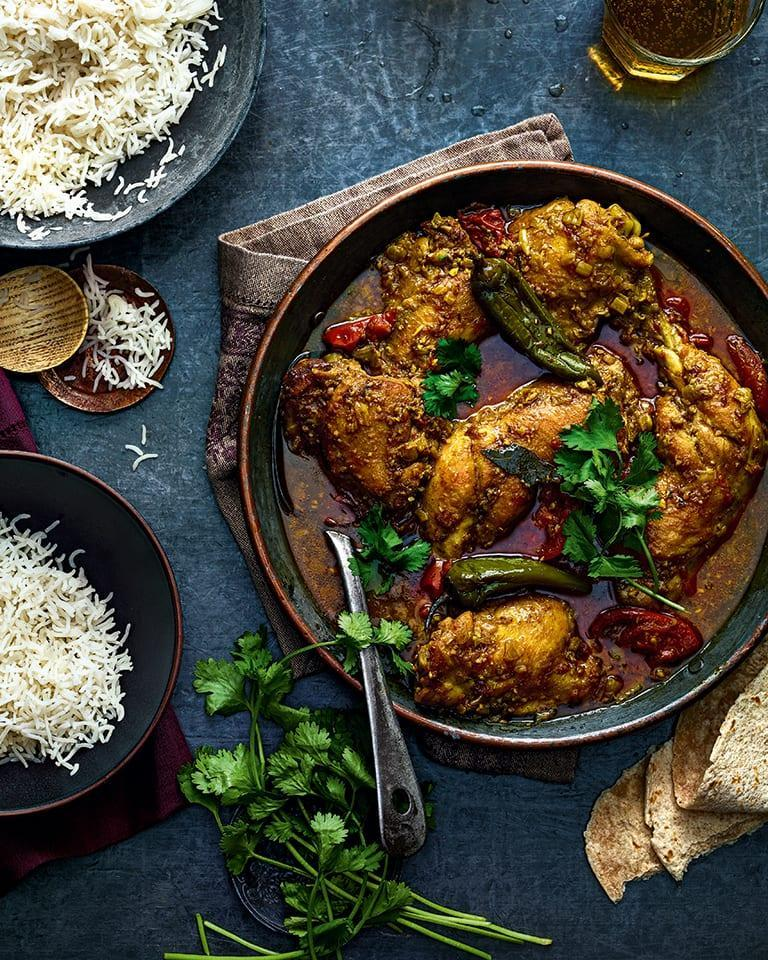chicken: (280, 169, 768, 742)
rice: (8, 6, 245, 244), (0, 526, 130, 780)
roti: (565, 754, 768, 880)
